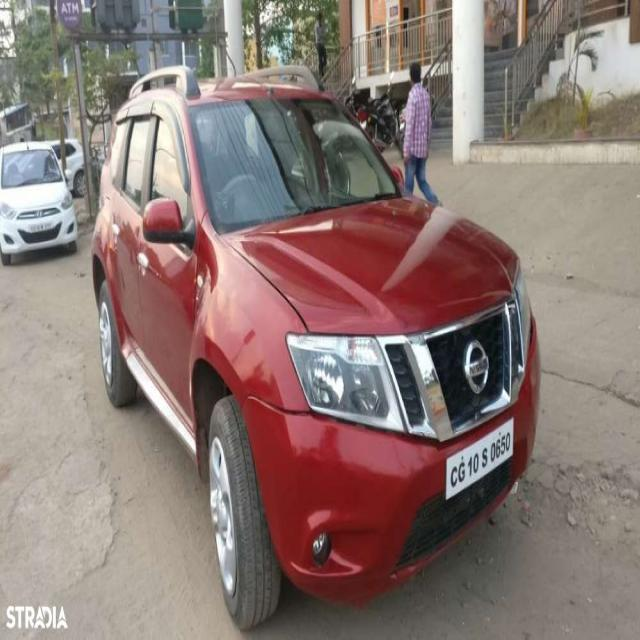Plate: (446, 416, 514, 502)
